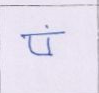anusvara: (45, 25, 48, 28)
